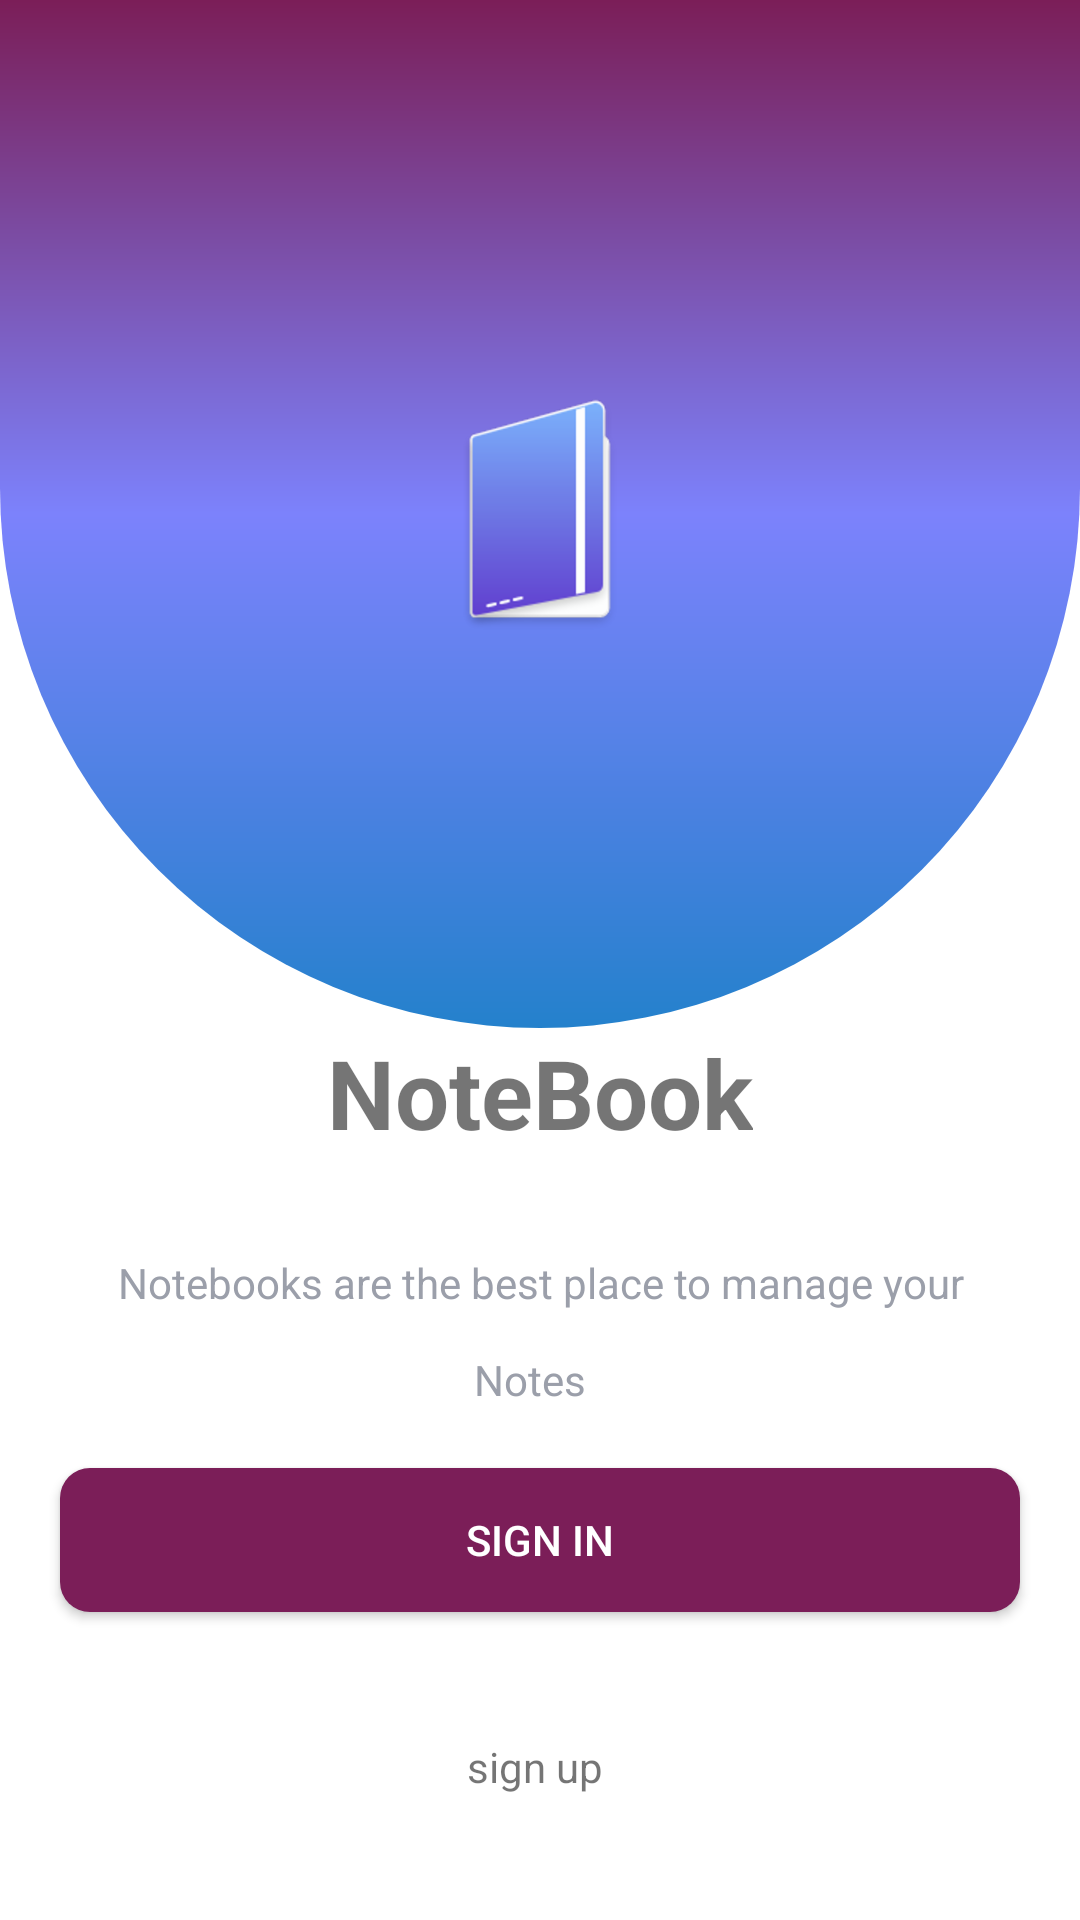

Where to tap for icons on this 1080*1920 app screen, as (x=x, y=y):
book: (x=540, y=514)
